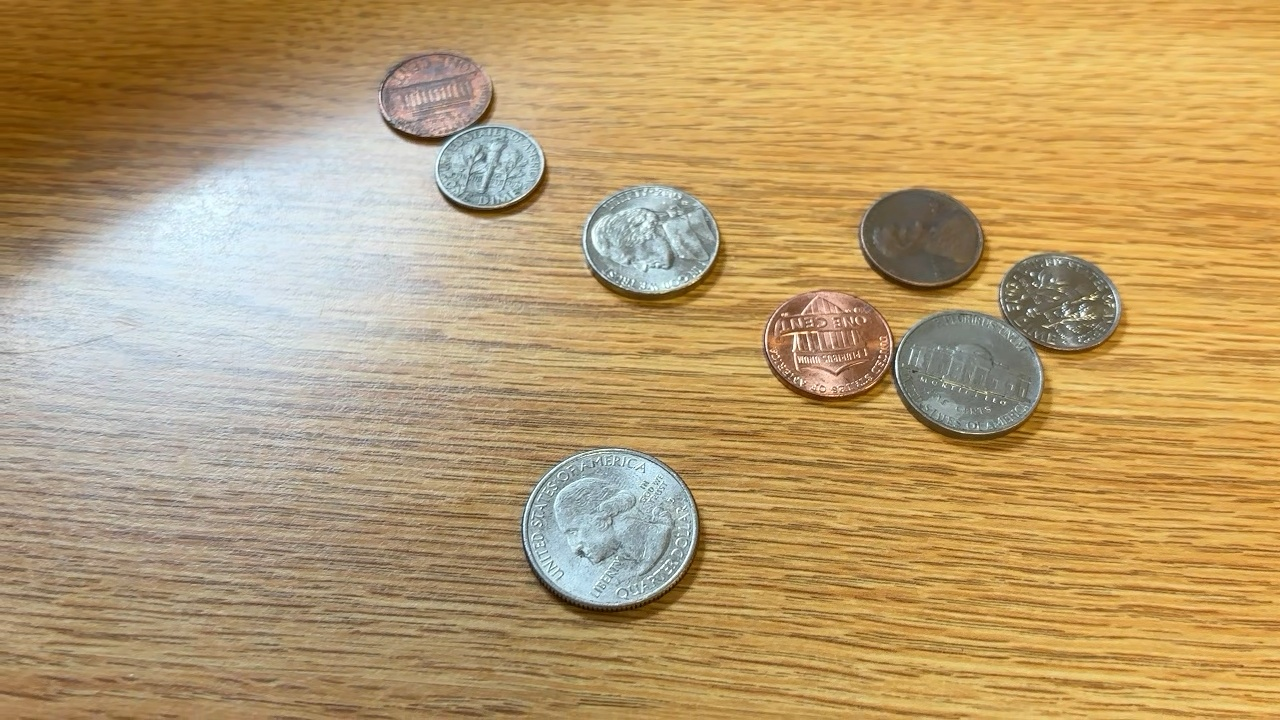dime: (998, 252, 1123, 353), (434, 122, 546, 210)
nickel: (889, 309, 1044, 436), (583, 184, 724, 301)
penny: (762, 289, 895, 403), (858, 188, 986, 290), (377, 51, 495, 137)
quarter: (518, 445, 703, 617)
